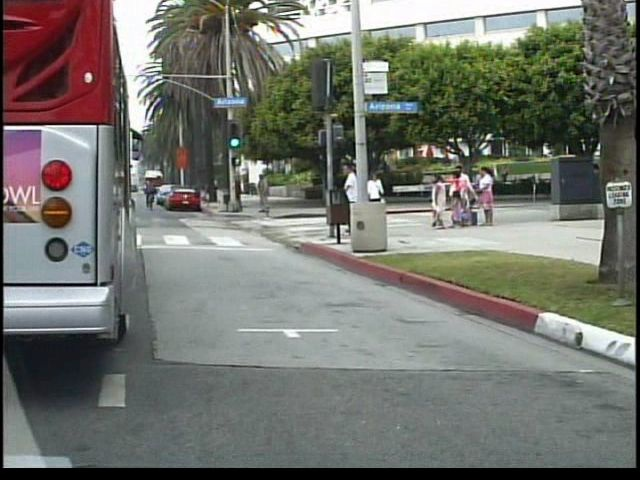person: (342, 160, 366, 239), (368, 168, 391, 230), (257, 169, 277, 212)
